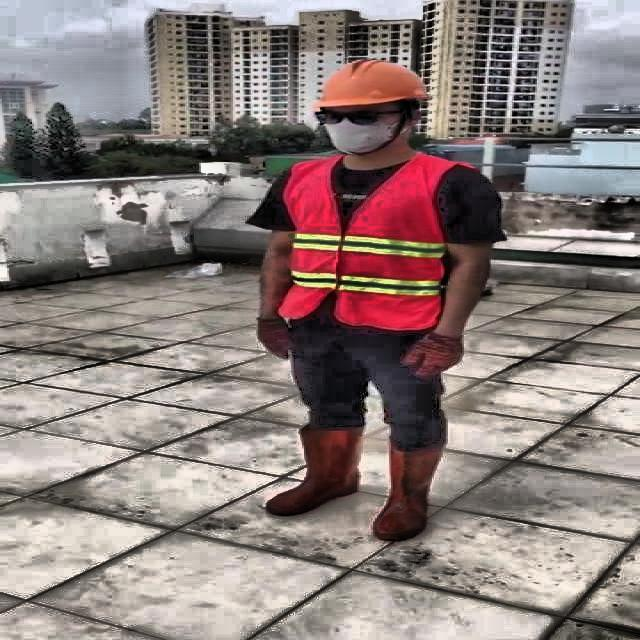safety_helmet: (307, 55, 429, 111)
safety_jacket: (279, 156, 457, 329)
